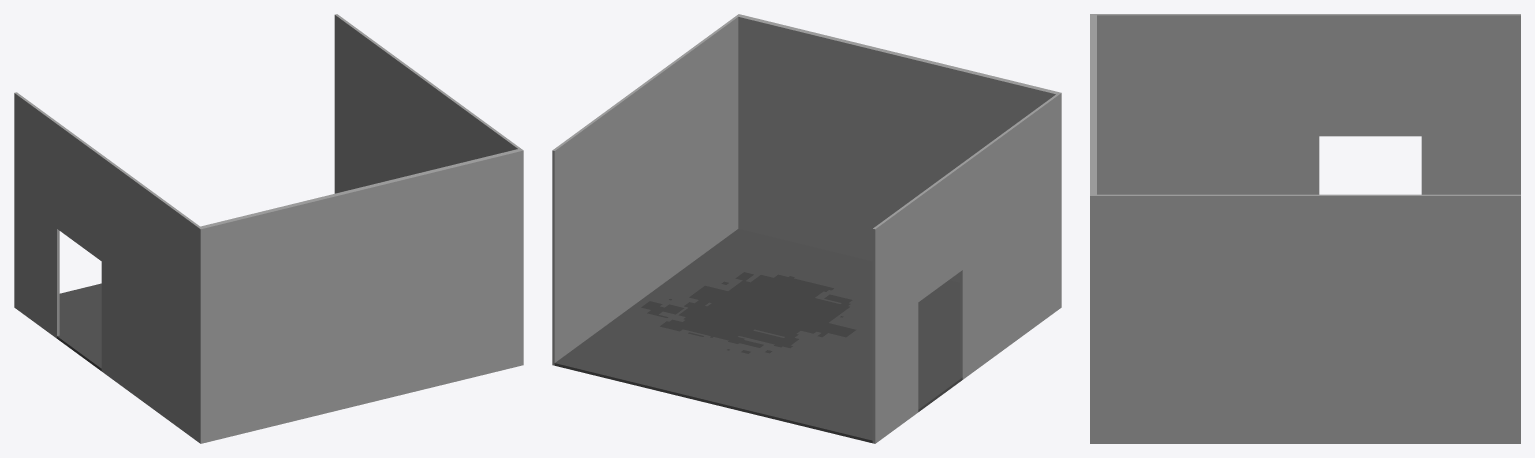
File: 4x2 third (des)-3.obj
The picture shows the model from 3 angles, left to right: view 1: azimuth 30°, elevation 25°; view 2: azimuth 150°, elevation 25°; view 3: azimuth 270°, elevation 25°; orthographic projection. The views are drawn at different scales.
Visible parts, largest first — view 1: 4x2 third (des)-3; view 2: 4x2 third (des)-3; view 3: 4x2 third (des)-3.
Part boxes in pixels (left/top/right/bottom): 4x2 third (des)-3: left=14, top=14, right=523, bottom=443; 4x2 third (des)-3: left=552, top=14, right=1061, bottom=443; 4x2 third (des)-3: left=1090, top=14, right=1520, bottom=443.
Size of the model in its own units: 126 by 80 by 126.
1 material, 1 textured.
